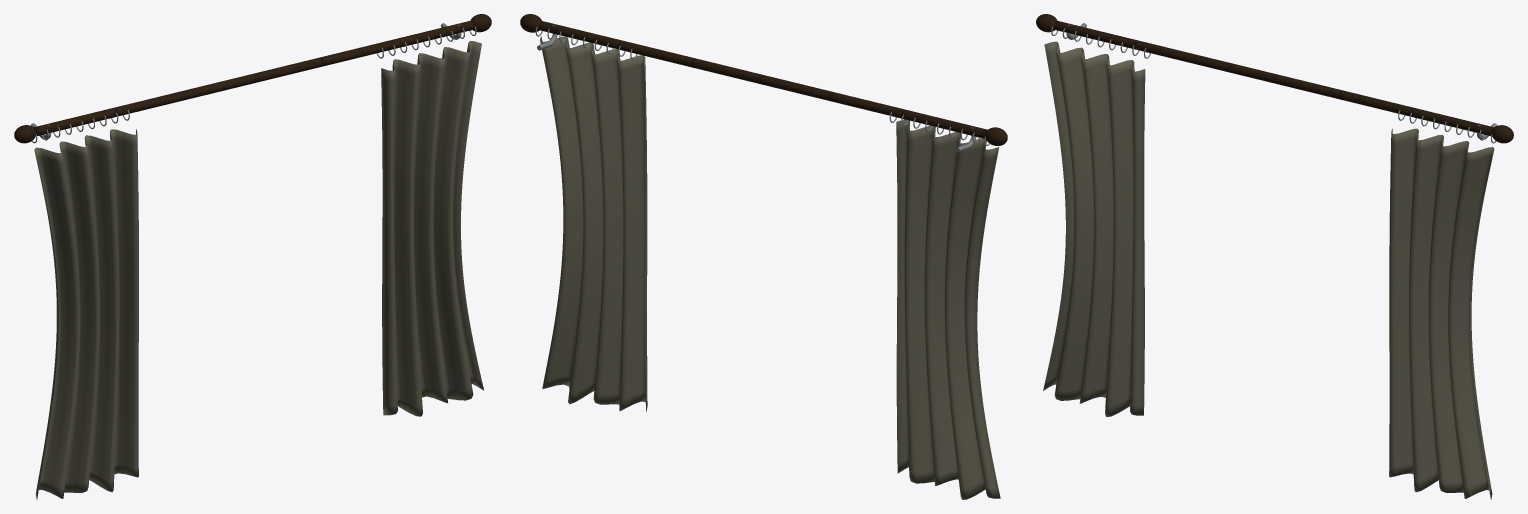
Rendered from gathered-curtains-2m.glb.
3 renders of one model, left to right at view 1: azimuth 30°, elevation 25°; view 2: azimuth 150°, elevation 25°; view 3: azimuth 330°, elevation 25°, orthographic. The views are drawn at different scales.
Parts seen in each view (by area): view 1: Hanging woven linen, Hanging woven linen.001, Wooden curtain pole, Pole bracket; view 2: Hanging woven linen.001, Hanging woven linen, Wooden curtain pole, Pole bracket; view 3: Hanging woven linen.001, Hanging woven linen, Wooden curtain pole, Pole bracket.
Boxes of the visible parts, left/top/right/bottom form: Hanging woven linen: left=34, top=129, right=138, bottom=499; Hanging woven linen.001: left=381, top=41, right=483, bottom=416; Wooden curtain pole: left=14, top=14, right=491, bottom=143; Pole bracket: left=30, top=23, right=476, bottom=143; Hanging woven linen.001: left=540, top=36, right=647, bottom=411; Hanging woven linen: left=896, top=119, right=1000, bottom=499; Wooden curtain pole: left=520, top=14, right=1007, bottom=145; Pole bracket: left=535, top=24, right=989, bottom=152; Hanging woven linen.001: left=1389, top=128, right=1494, bottom=499; Hanging woven linen: left=1043, top=41, right=1145, bottom=416; Wooden curtain pole: left=1036, top=14, right=1513, bottom=143; Pole bracket: left=1051, top=23, right=1497, bottom=143.
Size of the model in its own units: 2.55 by 1.92 by 0.2697.
Materials: 3 (2 with a texture image).
